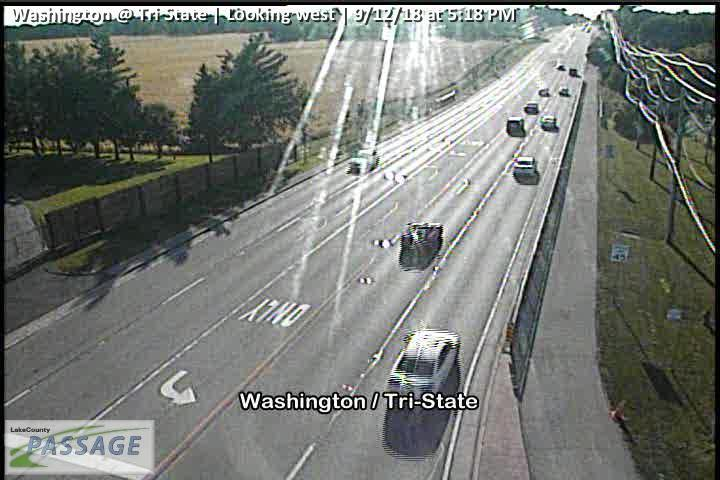SUV: (346, 148, 379, 176), (539, 114, 557, 130), (506, 116, 522, 134), (568, 67, 579, 77), (559, 87, 570, 96)
Sedan: (386, 326, 462, 402), (398, 221, 444, 256), (513, 156, 535, 175), (523, 102, 538, 113), (539, 87, 549, 97)
